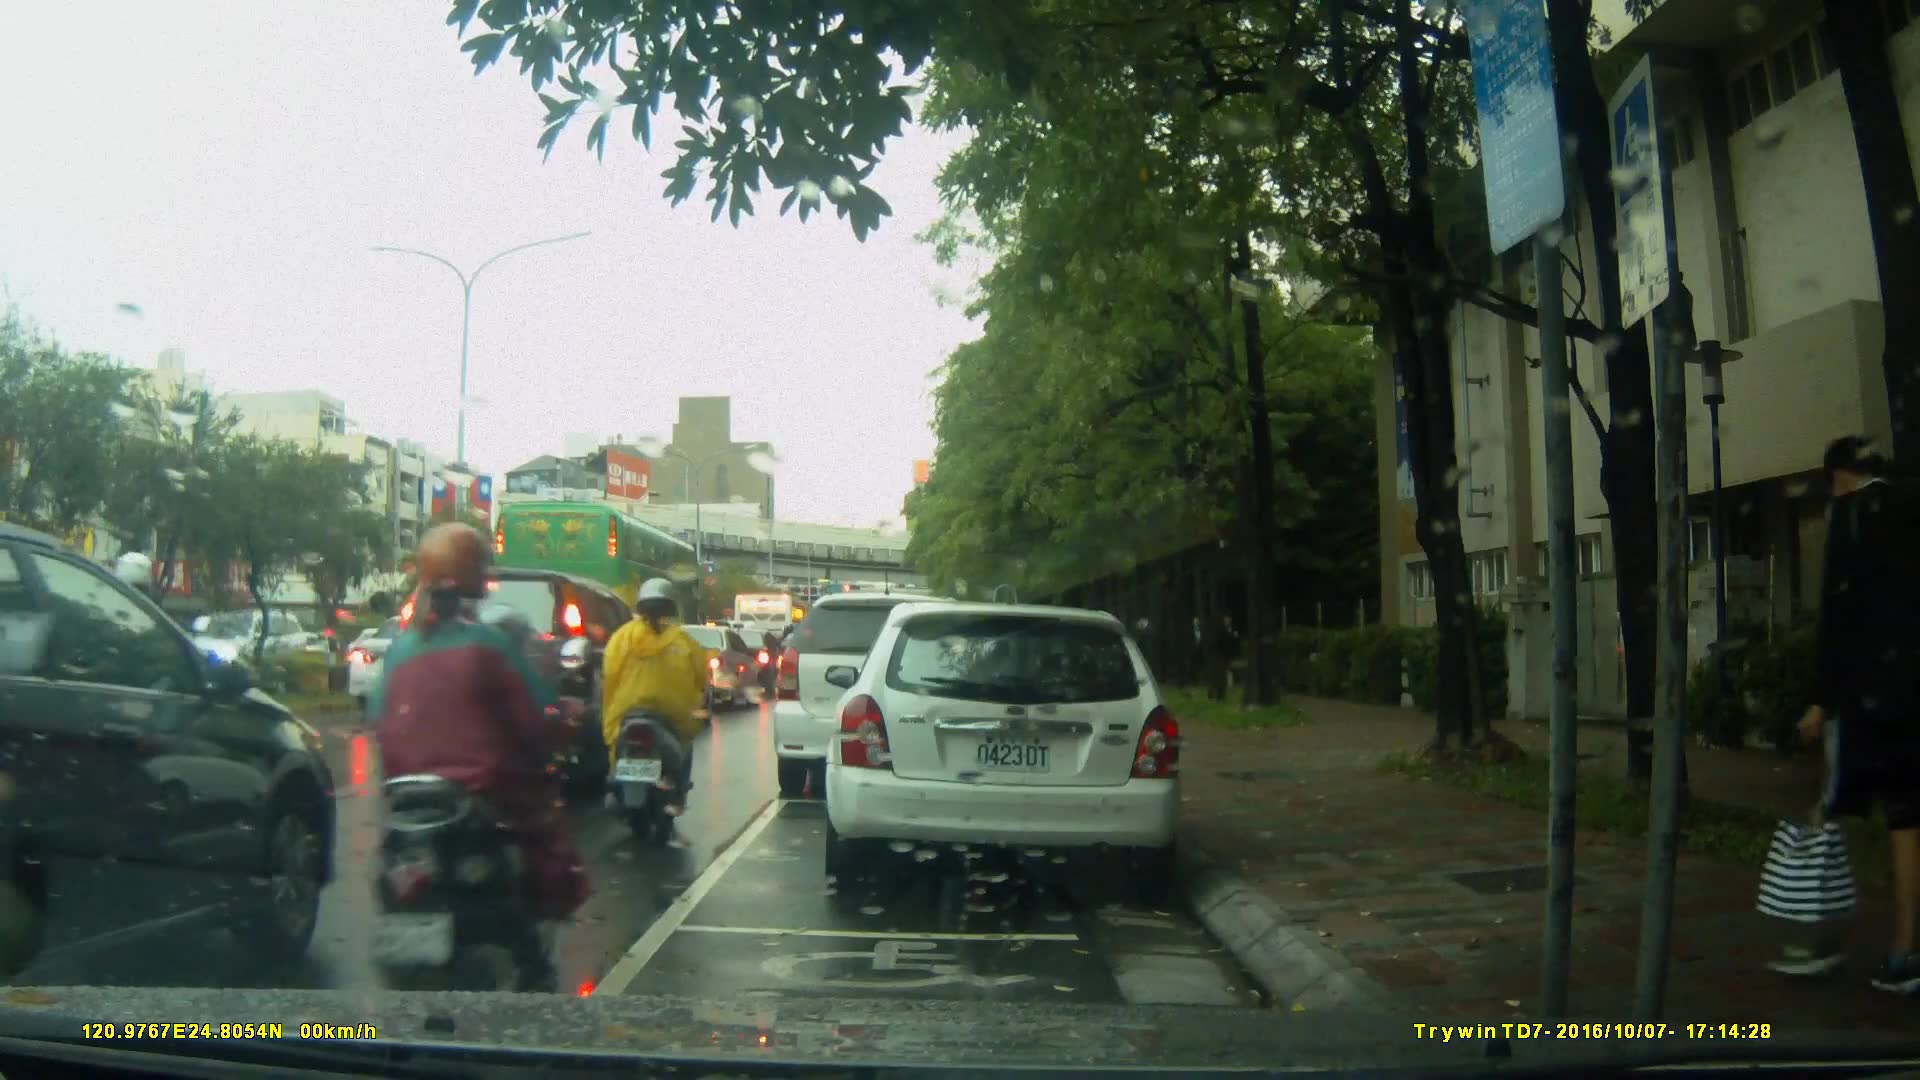pedestrian: (1751, 442, 1920, 1004)
rider: (370, 523, 596, 996), (602, 573, 718, 846), (90, 551, 202, 789)
vehicle: (2, 519, 316, 988), (831, 592, 1196, 897), (384, 564, 671, 804), (770, 592, 999, 801), (492, 498, 705, 659), (163, 601, 311, 701), (645, 624, 763, 711)
